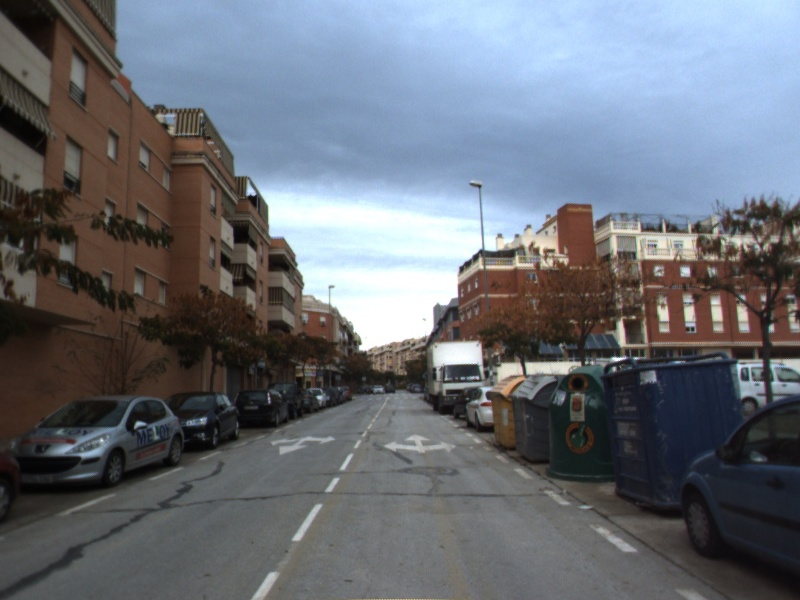STRAIGHT_LEFT_RIGHT: (381, 432, 458, 455)
